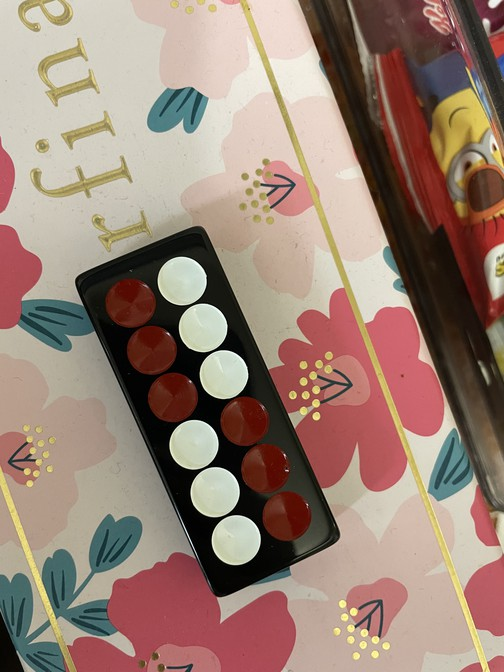heaven: (74, 226, 340, 597)
